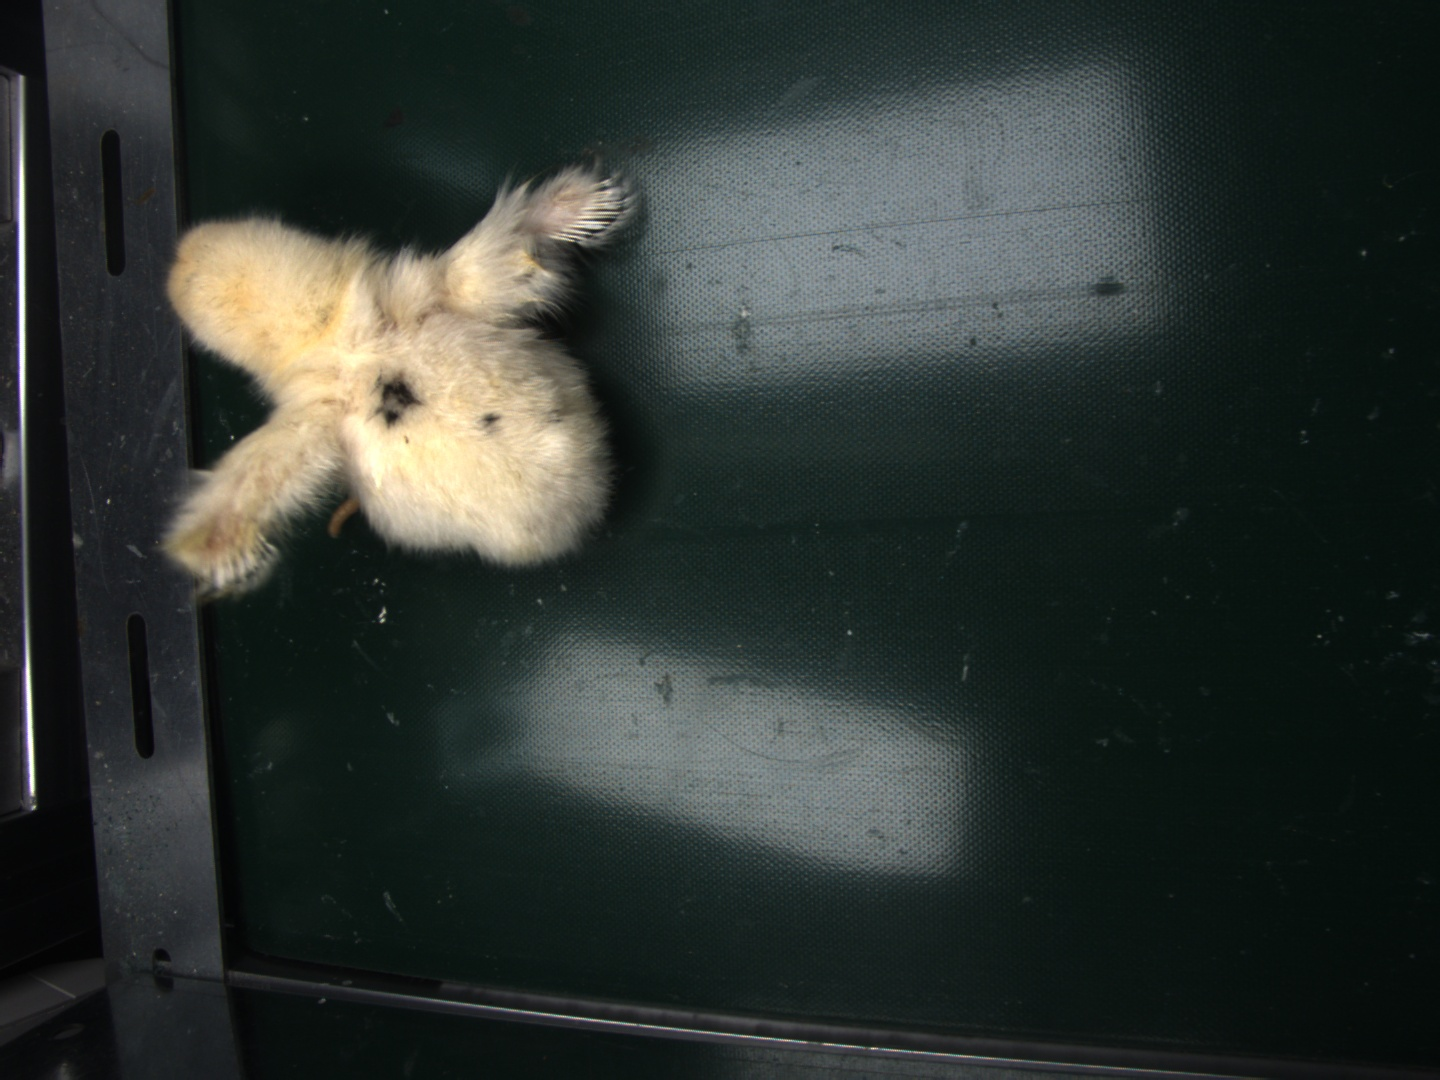male: (550, 179, 629, 243)
